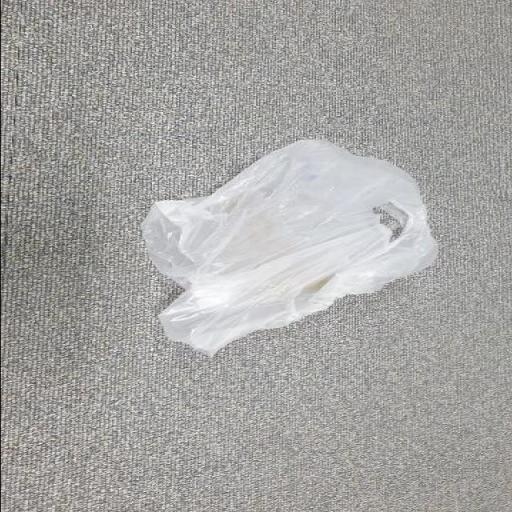plastic-bag: (144, 132, 437, 354)
